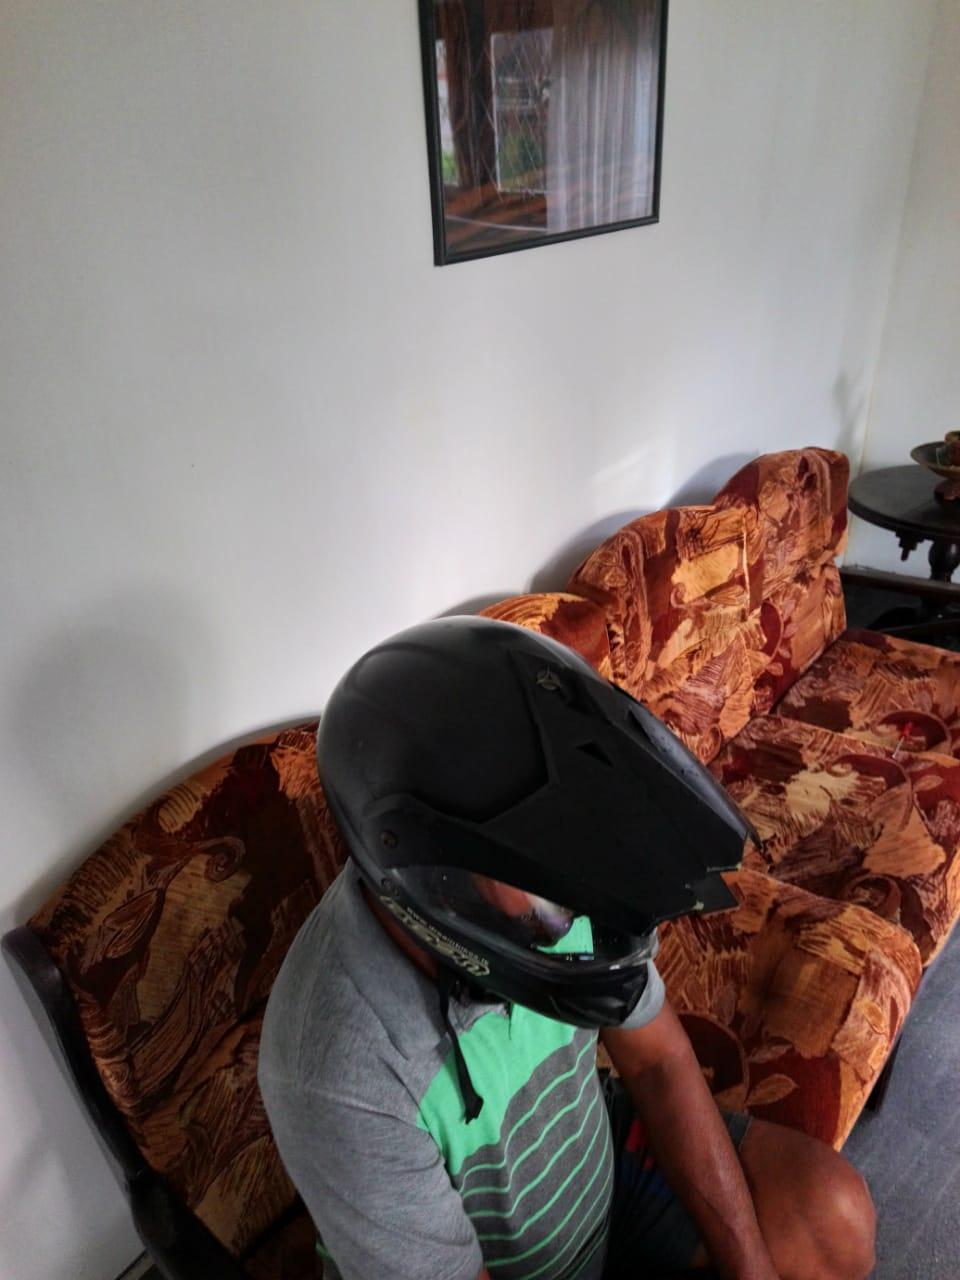helmet: (314, 615, 750, 1031)
